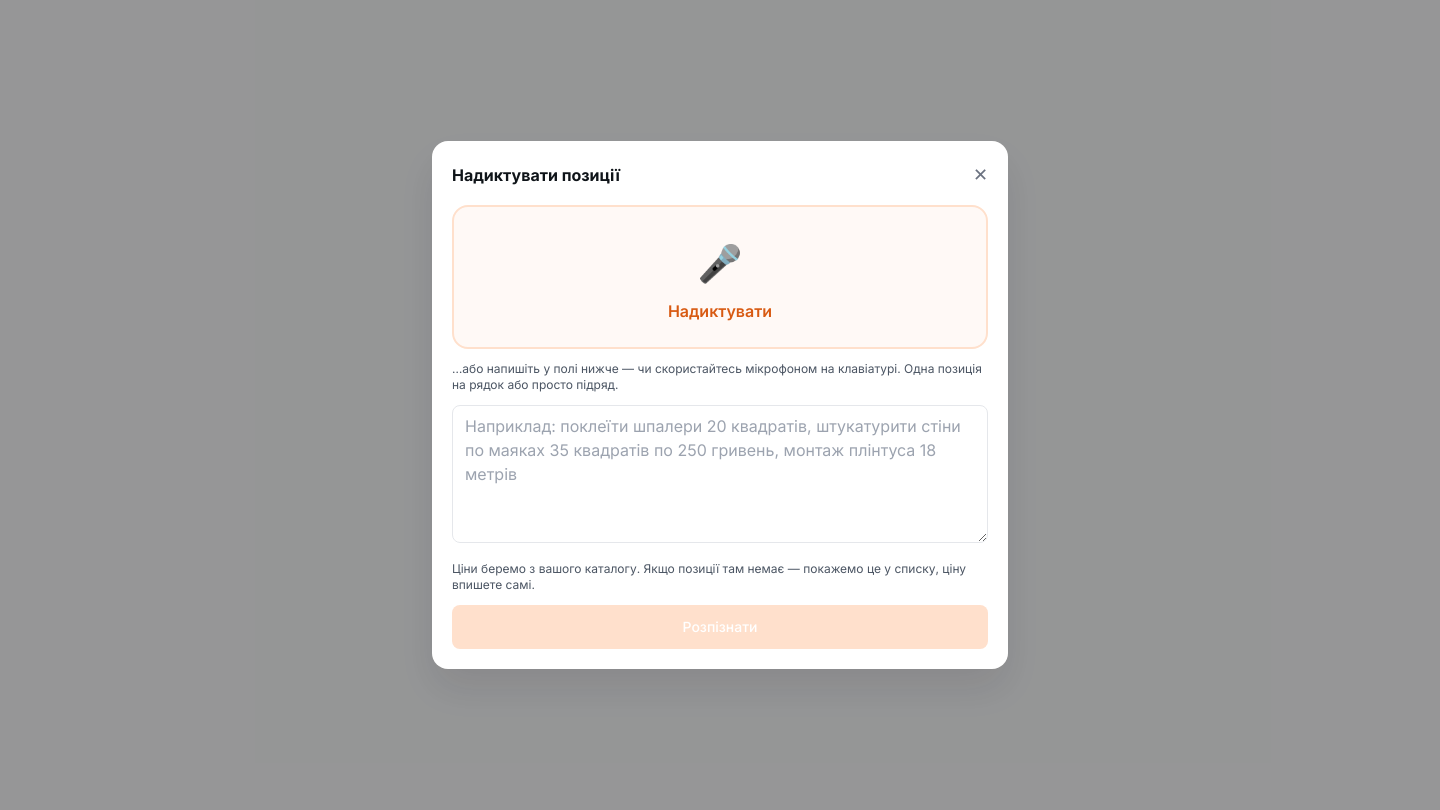
Test case: DictationSheet › shows what he actually said when the catalog answered with a different wording
This screenshot has width=1440, height=810.
Replace the text in the text box named "Текст із позиціями" with "поклеїти шпалери двадцять квадратів" at coordinates (720, 474), box [452,405,988,543]
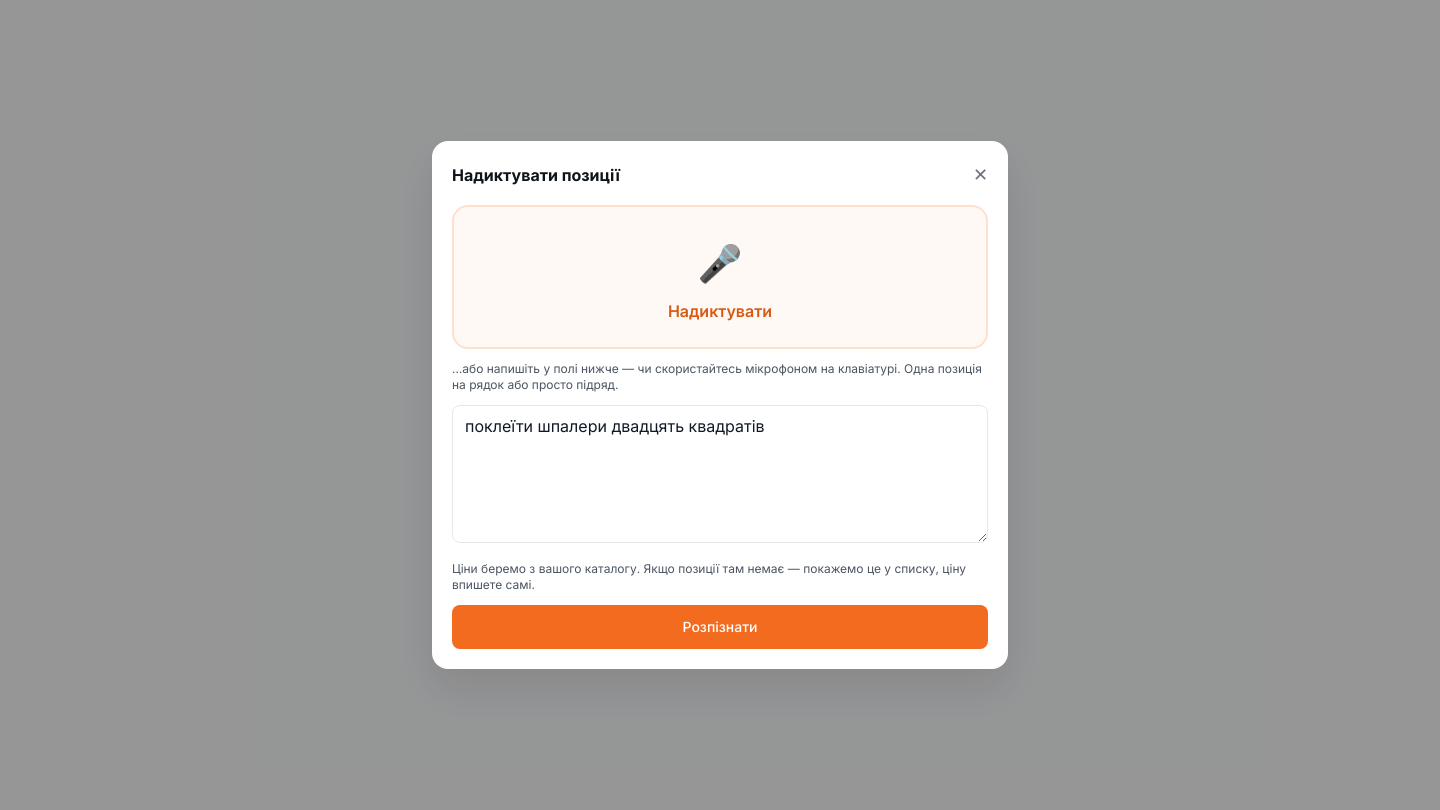
Click the button "Розпізнати" at coordinates (720, 627), box [452,605,988,649]
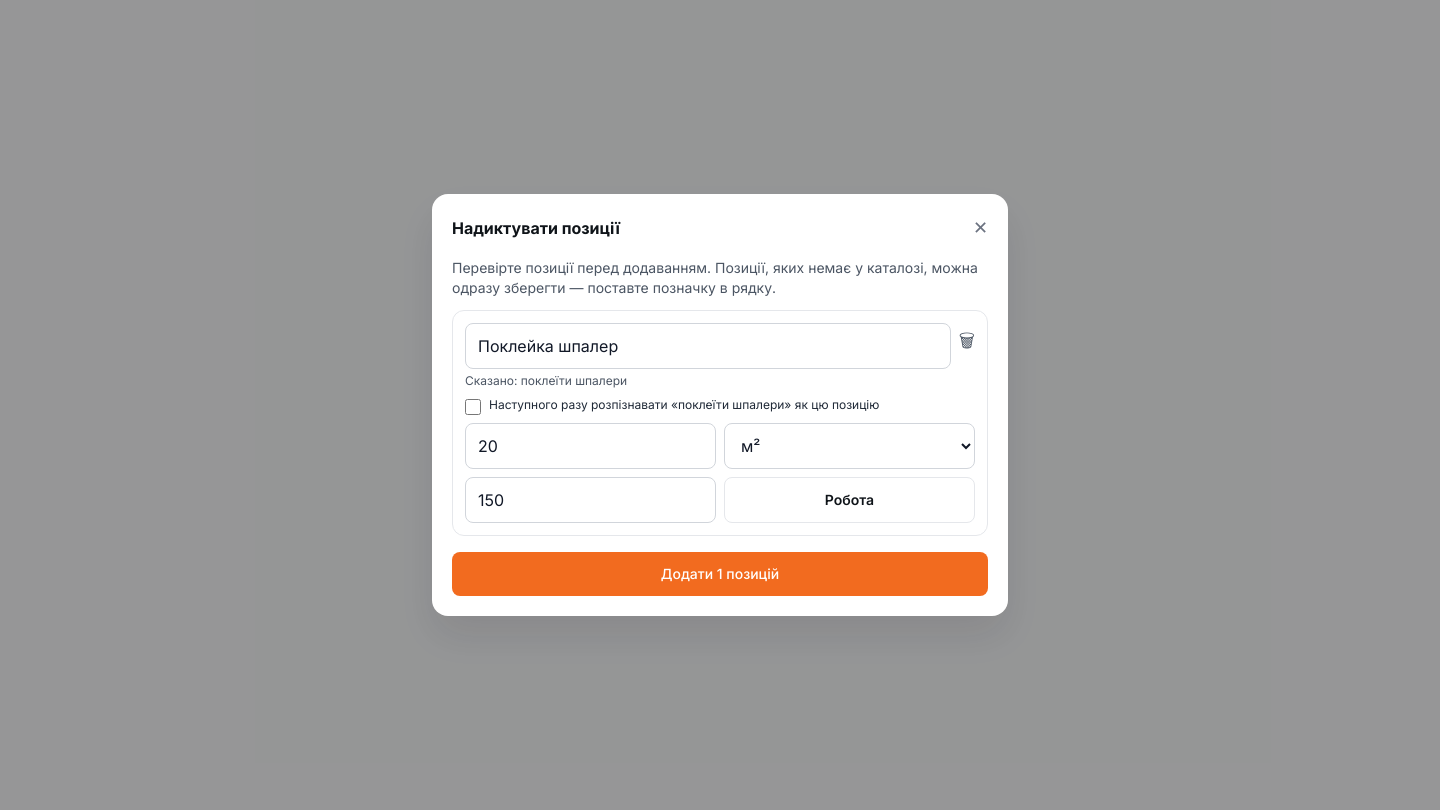
Now the text "Сказано: поклеїти шпалери" is shown, box [465,373,627,388]
